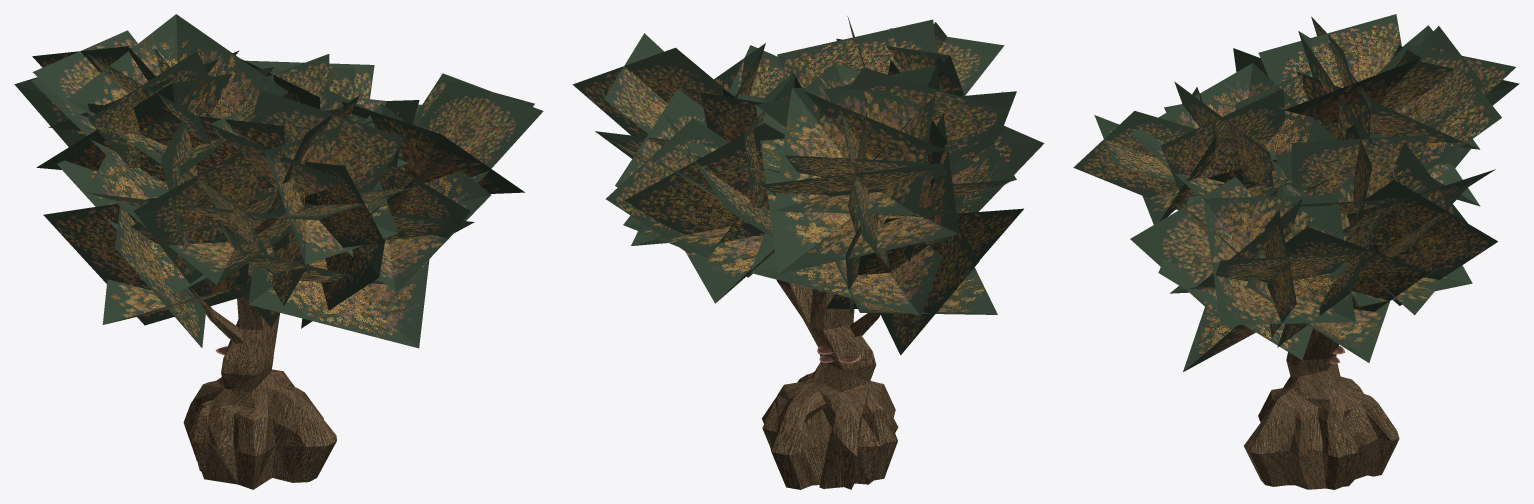
Rendered from decd_oaktreeleaves_l0.fbx.
The picture shows the model from 3 angles, left to right: view 1: azimuth 30°, elevation 25°; view 2: azimuth 150°, elevation 25°; view 3: azimuth 270°, elevation 25°; orthographic projection. The views are drawn at different scales.
Parts seen in each view (by area): view 1: mesh_node; view 2: mesh_node; view 3: mesh_node.
Boxes of the visible parts, left/top/right/bottom form: mesh_node: left=14, top=14, right=543, bottom=489; mesh_node: left=572, top=16, right=1044, bottom=489; mesh_node: left=1073, top=14, right=1519, bottom=489.
Size of the model in its own units: 22.4 by 20.01 by 20.23.
Materials: 4 (4 with a texture image).
